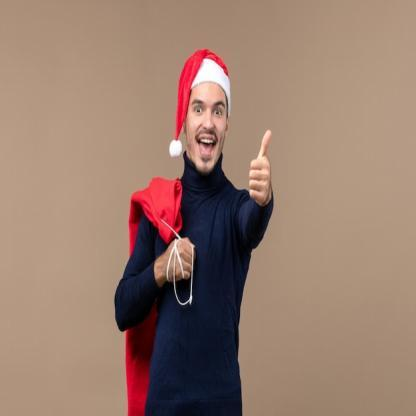thumb_up: (248, 128, 273, 210)
